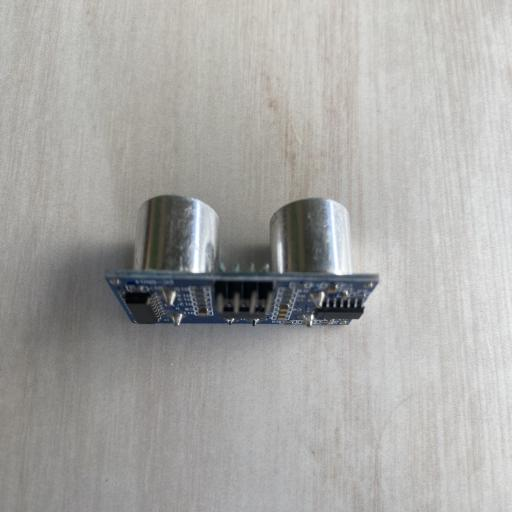Ultrasonic Sensor: (104, 193, 380, 328)
